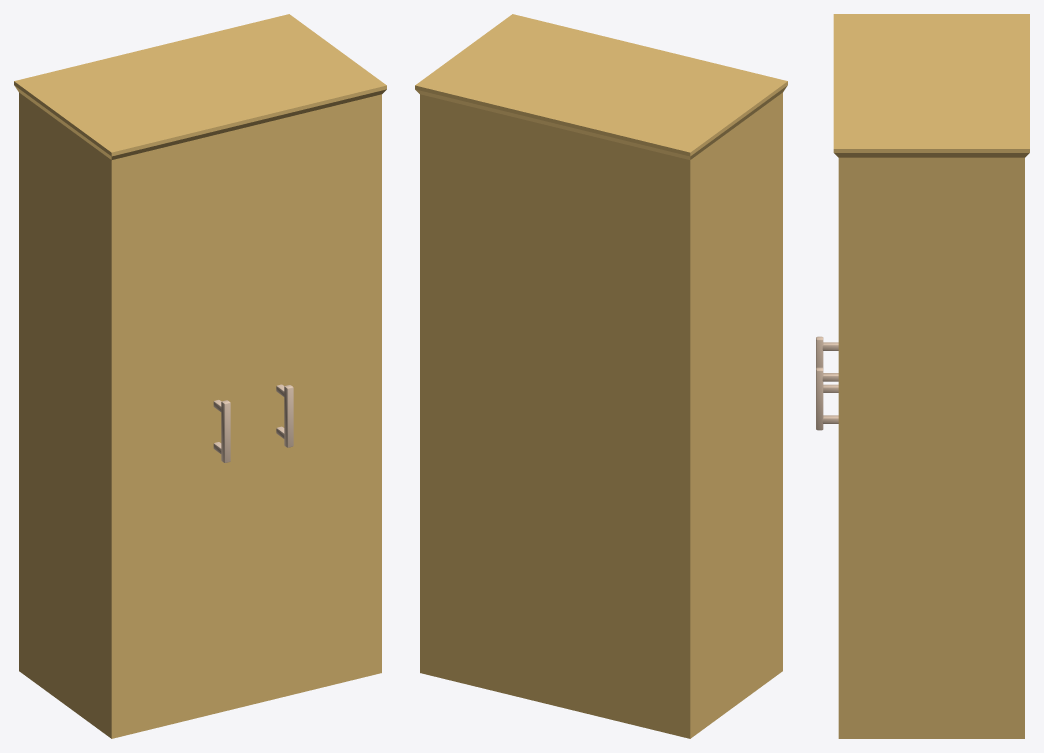
The model's file is SM_grande_armoire.fbx.
The picture shows the model from 3 angles, left to right: view 1: azimuth 30°, elevation 25°; view 2: azimuth 150°, elevation 25°; view 3: azimuth 270°, elevation 25°; orthographic projection.
Visible parts, largest first — view 1: Cube.009, Cube.010; view 2: Cube.009; view 3: Cube.009, Cube.010.
Part boxes in pixels (x1,y1,x2,y2): Cube.009: [14, 14, 386, 738]; Cube.010: [213, 384, 293, 462]; Cube.009: [415, 14, 787, 738]; Cube.009: [833, 14, 1029, 738]; Cube.010: [816, 336, 838, 430].
Size of the model in its own units: 143 by 293 by 95.98.
